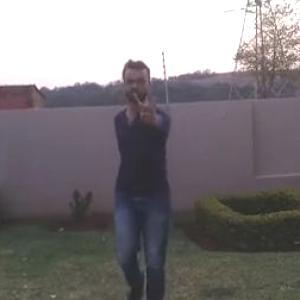takeoff-hand: (133, 86, 163, 128)
